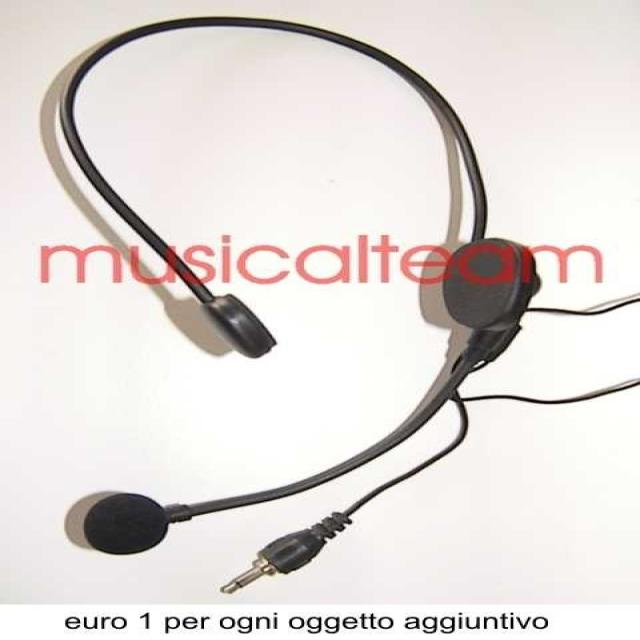microphone: (60, 485, 293, 556)
